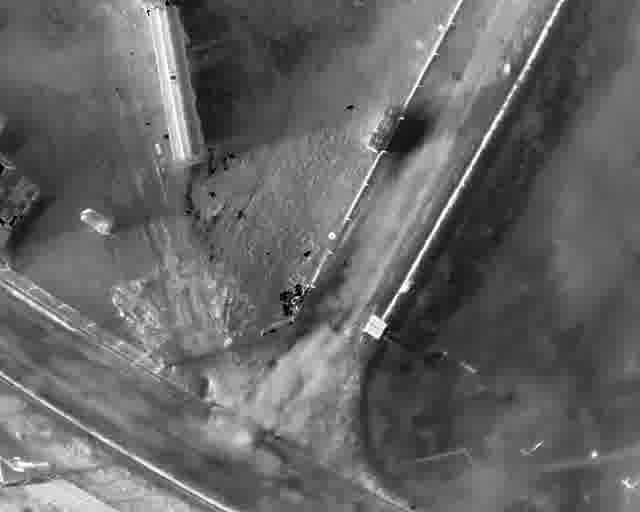truck: (139, 0, 210, 167), (0, 174, 42, 248)
